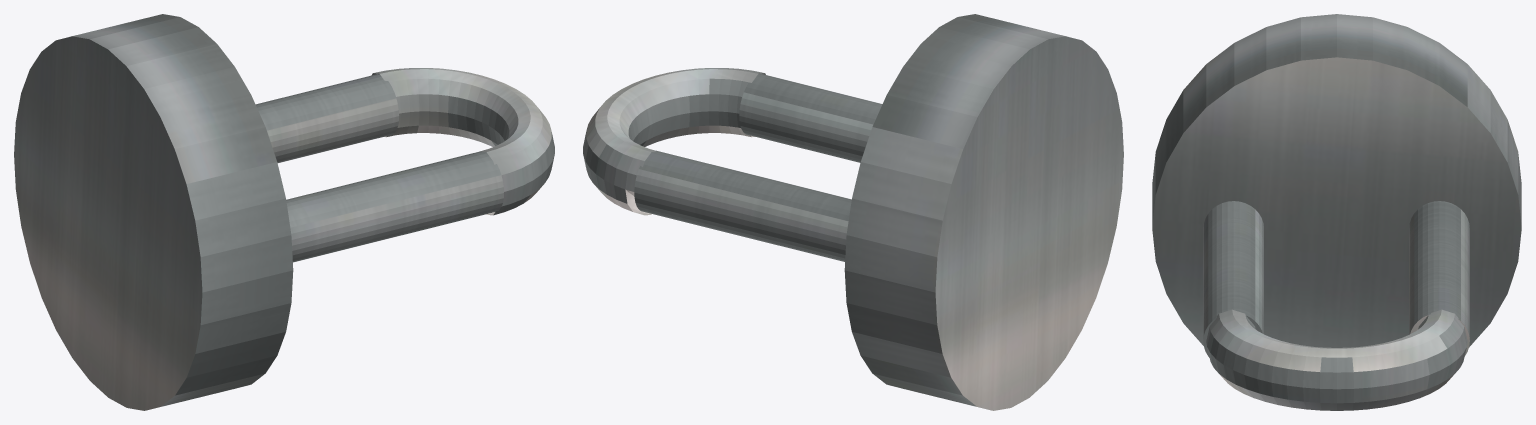
The model's file is chain chomp_cadena_principal.obj.
3 views of the same model, side by side, from view 1: azimuth 30°, elevation 25°; view 2: azimuth 150°, elevation 25°; view 3: azimuth 270°, elevation 25° (orthographic).
Parts seen in each view (by area): view 1: cadena; view 2: cadena; view 3: cadena.
Boxes of the visible parts, x1=… form: cadena: x1=14, y1=14, x2=554, y2=410; cadena: x1=583, y1=14, x2=1123, y2=410; cadena: x1=1152, y1=14, x2=1521, y2=410.
Bounding box in the file's own units: 0.1754 × 0.1368 × 0.134.
1 material, 1 textured.
